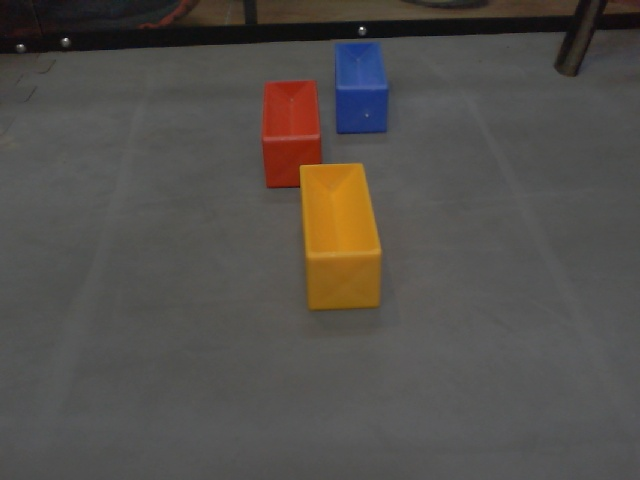BlueSample: (332, 40, 392, 136)
RedSample: (262, 77, 324, 190)
YellowSample: (297, 159, 387, 312)
